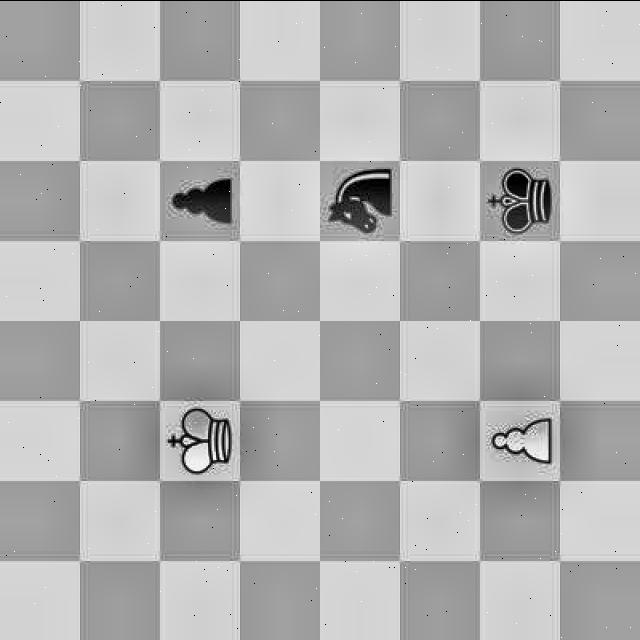Black Knight: (322, 162, 396, 238)
black pawn: (156, 170, 236, 233)
white king: (162, 402, 238, 476), (482, 164, 556, 237)
white pawn: (488, 403, 556, 476)
